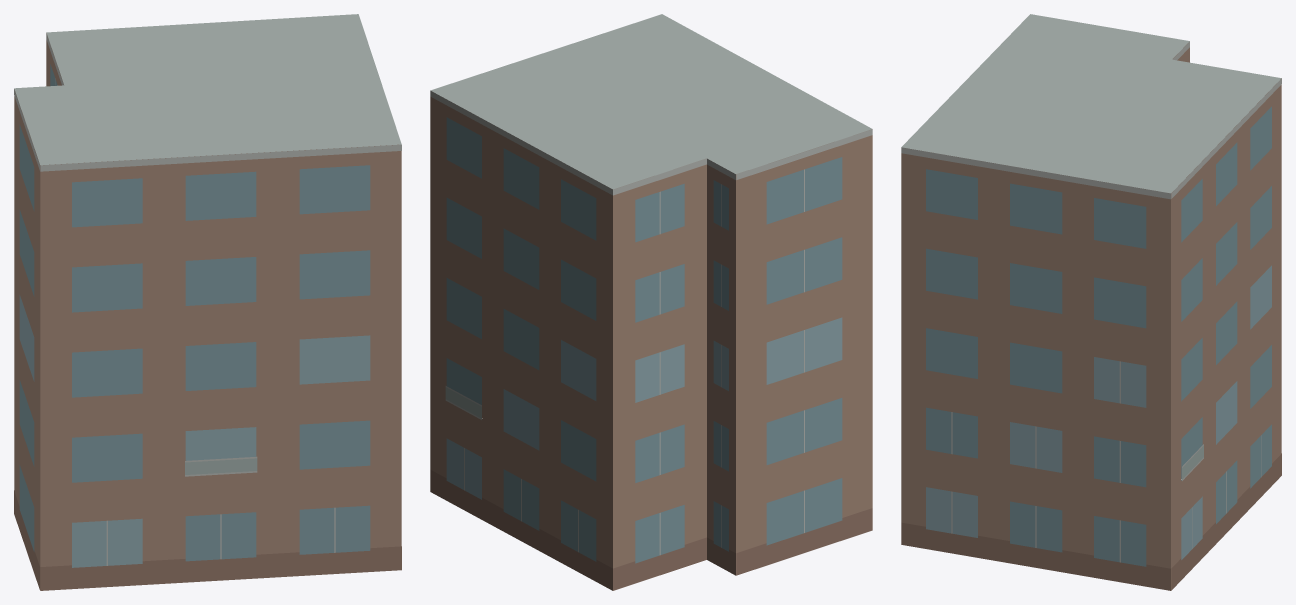
File: survey-upis-32720020.glb
The picture shows the model from 3 angles, left to right: view 1: azimuth 30°, elevation 25°; view 2: azimuth 150°, elevation 25°; view 3: azimuth 270°, elevation 25°; orthographic projection. The views are drawn at different scales.
Parts seen in each view (by area): view 1: survey-upis-32720020.tmp; view 2: survey-upis-32720020.tmp; view 3: survey-upis-32720020.tmp.
Part boxes in pixels (<box>): survey-upis-32720020.tmp: <box>14,14,401,590</box>; survey-upis-32720020.tmp: <box>430,14,872,590</box>; survey-upis-32720020.tmp: <box>901,14,1281,590</box>.
Size of the model in its own units: 15.79 by 16.3 by 14.16.
